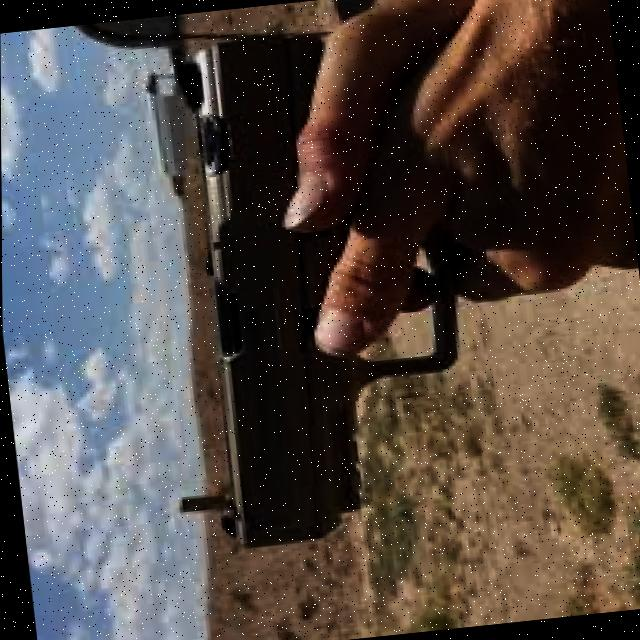pistol: (129, 18, 481, 552)
